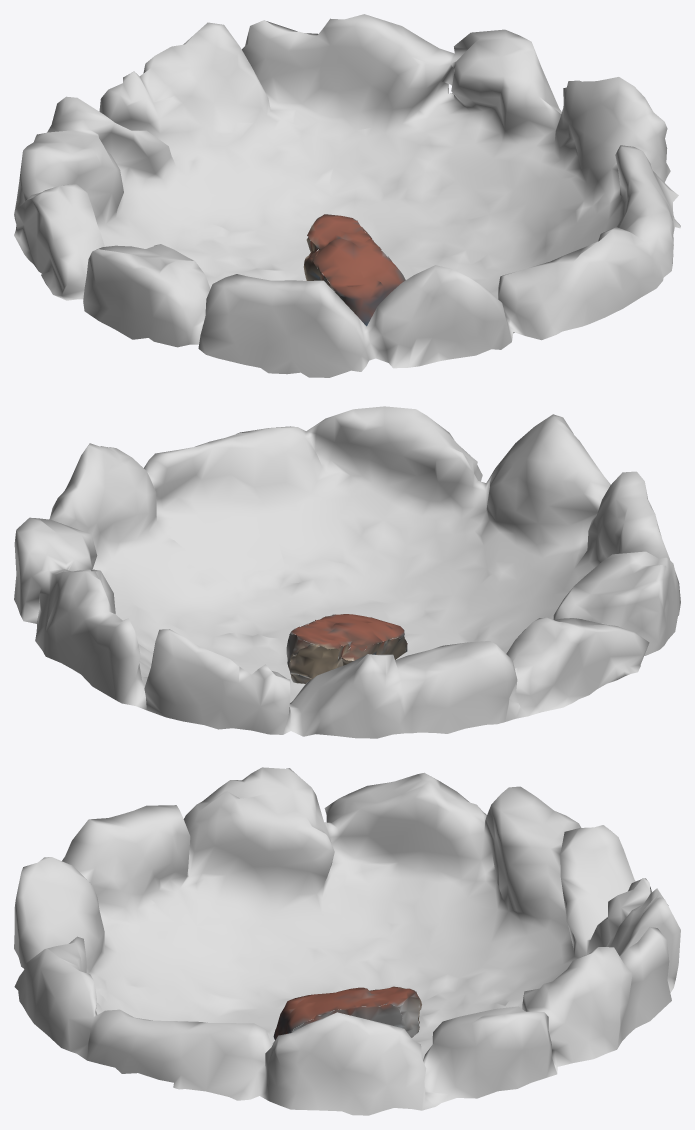
File: firestones.glb
3 renders of one model, top to bottom at view 1: azimuth 30°, elevation 25°; view 2: azimuth 150°, elevation 25°; view 3: azimuth 270°, elevation 25°, orthographic.
Visible parts, largest first — view 1: fs_pit_0_lod0, fs_r07_0_lod0; view 2: fs_pit_0_lod0, fs_r07_0_lod0; view 3: fs_pit_0_lod0, fs_r07_0_lod0.
Boxes of the visible parts, left/top/right/bottom form: fs_pit_0_lod0: left=14, top=14, right=680, bottom=377; fs_r07_0_lod0: left=303, top=214, right=405, bottom=326; fs_pit_0_lod0: left=14, top=406, right=680, bottom=738; fs_r07_0_lod0: left=286, top=614, right=407, bottom=683; fs_pit_0_lod0: left=14, top=767, right=680, bottom=1115; fs_r07_0_lod0: left=273, top=986, right=421, bottom=1040.
Size of what is drawn, in the model's own units: 1.45 by 0.3886 by 1.43.
